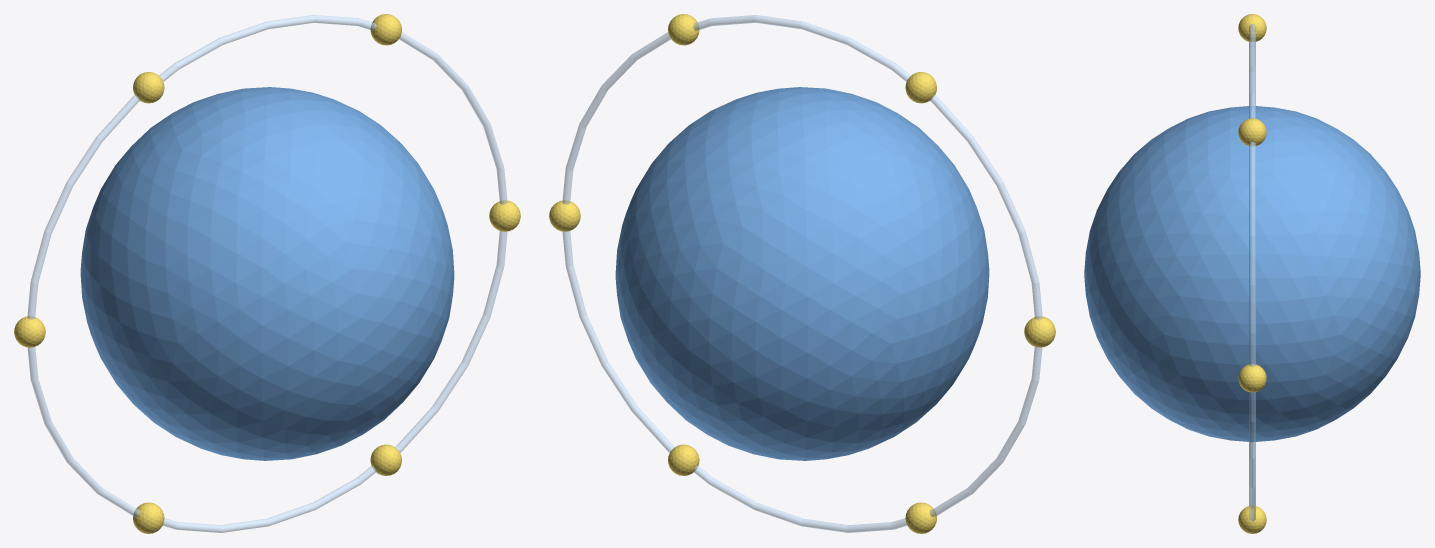
Rendered from Cl_minus.glb.
3 views of the same model, side by side, from view 1: azimuth 30°, elevation 25°; view 2: azimuth 150°, elevation 25°; view 3: azimuth 270°, elevation 25° (orthographic). The views are drawn at different scales.
Visible parts, largest first — view 1: ion_core, electron_shell, electron_0, electron_3, electron_2, electron_5, electron_1, electron_4; view 2: ion_core, electron_shell, electron_0, electron_3, electron_2, electron_5, electron_1, electron_4; view 3: ion_core, electron_shell, electron_1, electron_0, electron_5, electron_2.
Boxes of the visible parts, x1,y1,x2,y2 form: ion_core: (80, 87, 454, 460); electron_shell: (27, 15, 507, 532); electron_0: (489, 200, 520, 231); electron_3: (14, 316, 45, 347); electron_2: (133, 72, 164, 103); electron_5: (370, 444, 401, 475); electron_1: (370, 14, 401, 45); electron_4: (133, 502, 164, 533); ion_core: (615, 87, 989, 460); electron_shell: (562, 15, 1042, 532); electron_0: (549, 200, 580, 231); electron_3: (1024, 316, 1055, 347); electron_2: (905, 72, 936, 103); electron_5: (668, 444, 699, 475); electron_1: (668, 14, 699, 45); electron_4: (905, 502, 936, 533); ion_core: (1084, 105, 1420, 442); electron_shell: (1249, 24, 1255, 521); electron_1: (1238, 118, 1266, 146); electron_0: (1238, 364, 1266, 392); electron_5: (1238, 505, 1266, 533); electron_2: (1238, 14, 1266, 42).
Size of the model in its own units: 3.66 by 3.51 by 2.36.
